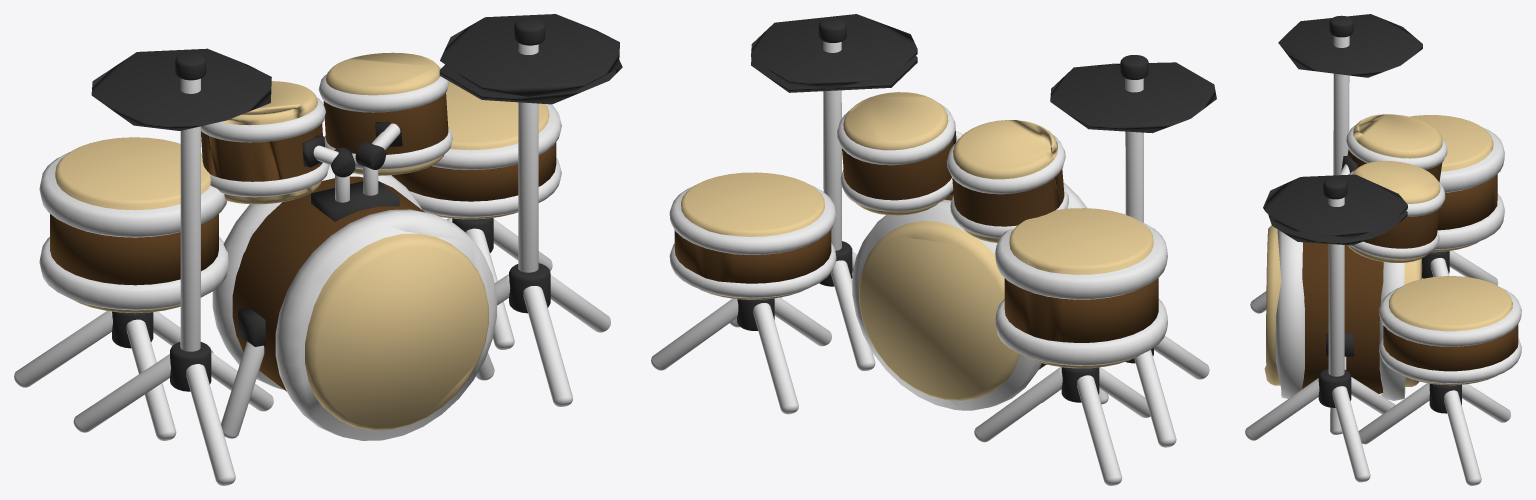
File: Drum_kit.glb
3 views of the same model, side by side, from view 1: azimuth 30°, elevation 25°; view 2: azimuth 150°, elevation 25°; view 3: azimuth 270°, elevation 25° (orthographic). The views are drawn at different scales.
Parts seen in each view (by area): view 1: 3d66-Editable_Poly-21083463-001, 3d66-Editable_Poly-21083463-011; view 2: 3d66-Editable_Poly-21083463-001, 3d66-Editable_Poly-21083463-011; view 3: 3d66-Editable_Poly-21083463-001, 3d66-Editable_Poly-21083463-011.
Boxes of the visible parts, bbox=[...] form: 3d66-Editable_Poly-21083463-001: bbox=[50, 14, 622, 430]; 3d66-Editable_Poly-21083463-011: bbox=[14, 43, 610, 485]; 3d66-Editable_Poly-21083463-001: bbox=[674, 14, 1216, 402]; 3d66-Editable_Poly-21083463-011: bbox=[651, 41, 1209, 485]; 3d66-Editable_Poly-21083463-001: bbox=[1263, 14, 1518, 413]; 3d66-Editable_Poly-21083463-011: bbox=[1245, 36, 1521, 485].
Bounding box in the file's own units: 1.63 × 1.17 × 0.9499.
